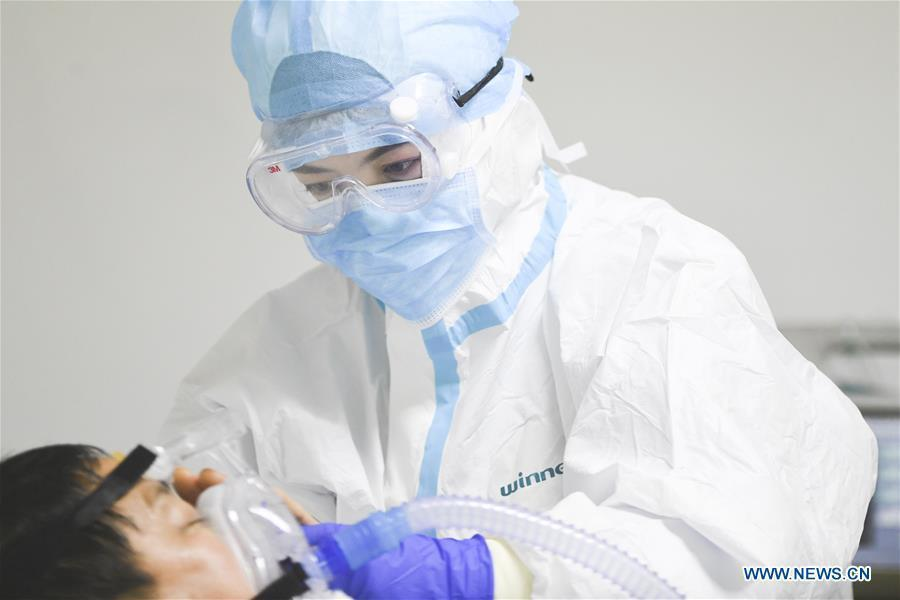Gloves: (304, 518, 494, 598)
Goggles: (233, 74, 475, 237)
